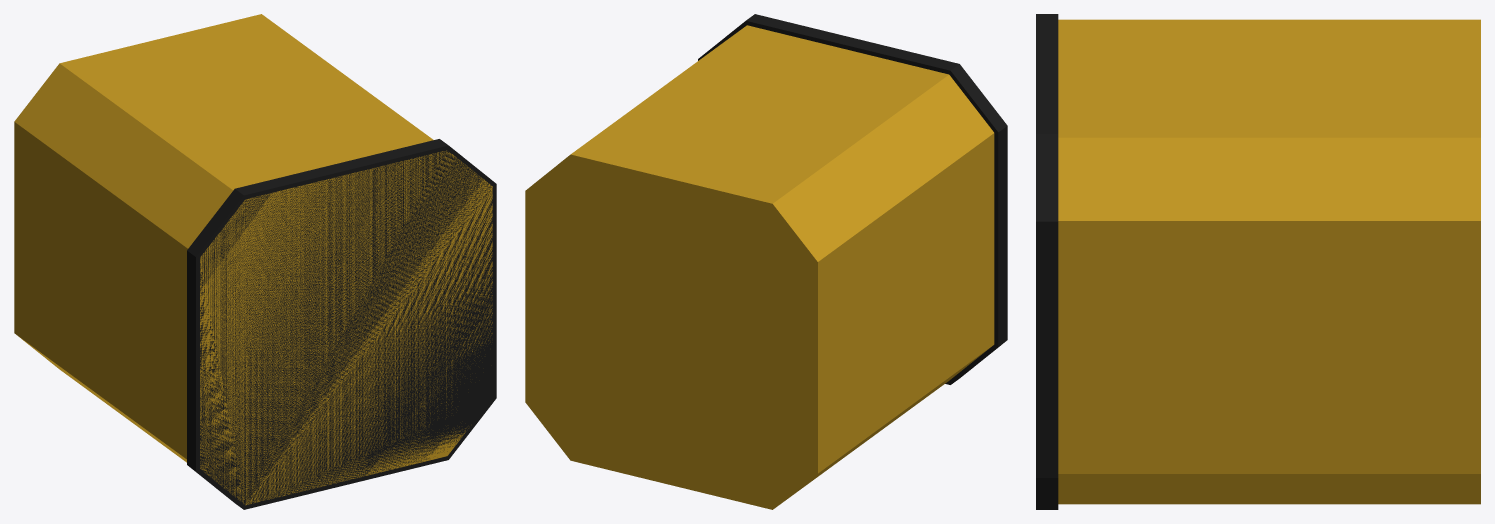
File: kt1_housing.obj
3 views of the same model, side by side, from view 1: azimuth 30°, elevation 25°; view 2: azimuth 150°, elevation 25°; view 3: azimuth 270°, elevation 25° (orthographic). The views are drawn at different scales.
Visible parts, largest first — view 1: kt1_housing; view 2: kt1_housing; view 3: kt1_housing.
Boxes of the visible parts, bbox=[...] form: kt1_housing: bbox=[14, 14, 496, 509]; kt1_housing: bbox=[525, 14, 1007, 509]; kt1_housing: bbox=[1036, 14, 1480, 509].
Bounding box in the file's own units: 2.26 × 2.26 × 2.42.
